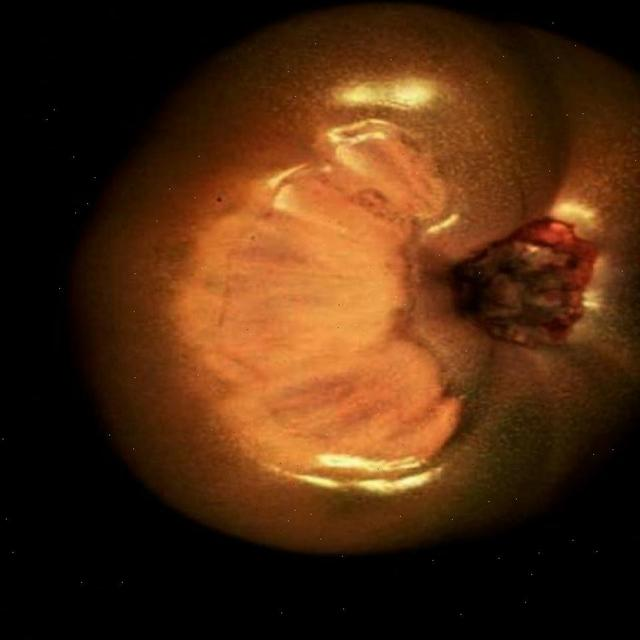Sunscald Fruit: (0, 76, 248, 298)
